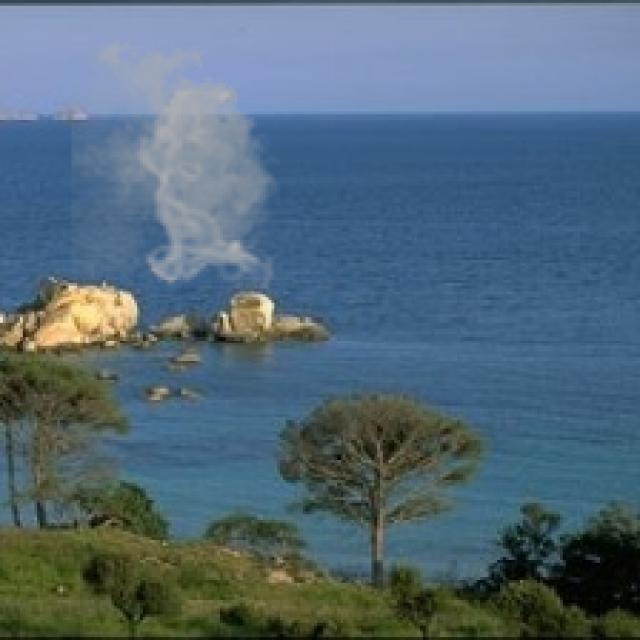smoke: (71, 32, 286, 288)
